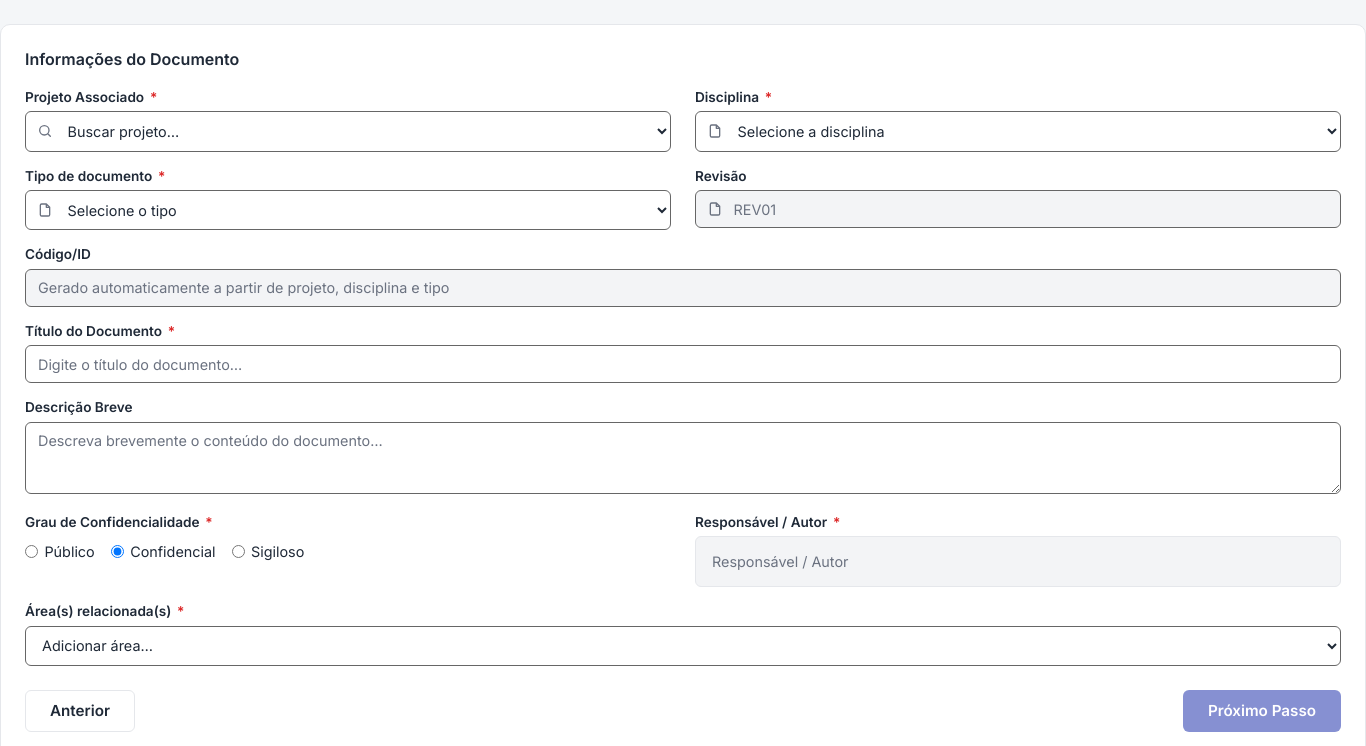
Scenario: MetadataStep › should build the code and enable the next step once required fields are filled
Select "AK-2100 - Aeroestrutura de Fuselagem Central" in the dropdown labelled "Projeto Associado *" at (348, 132), box [25,111,671,152]
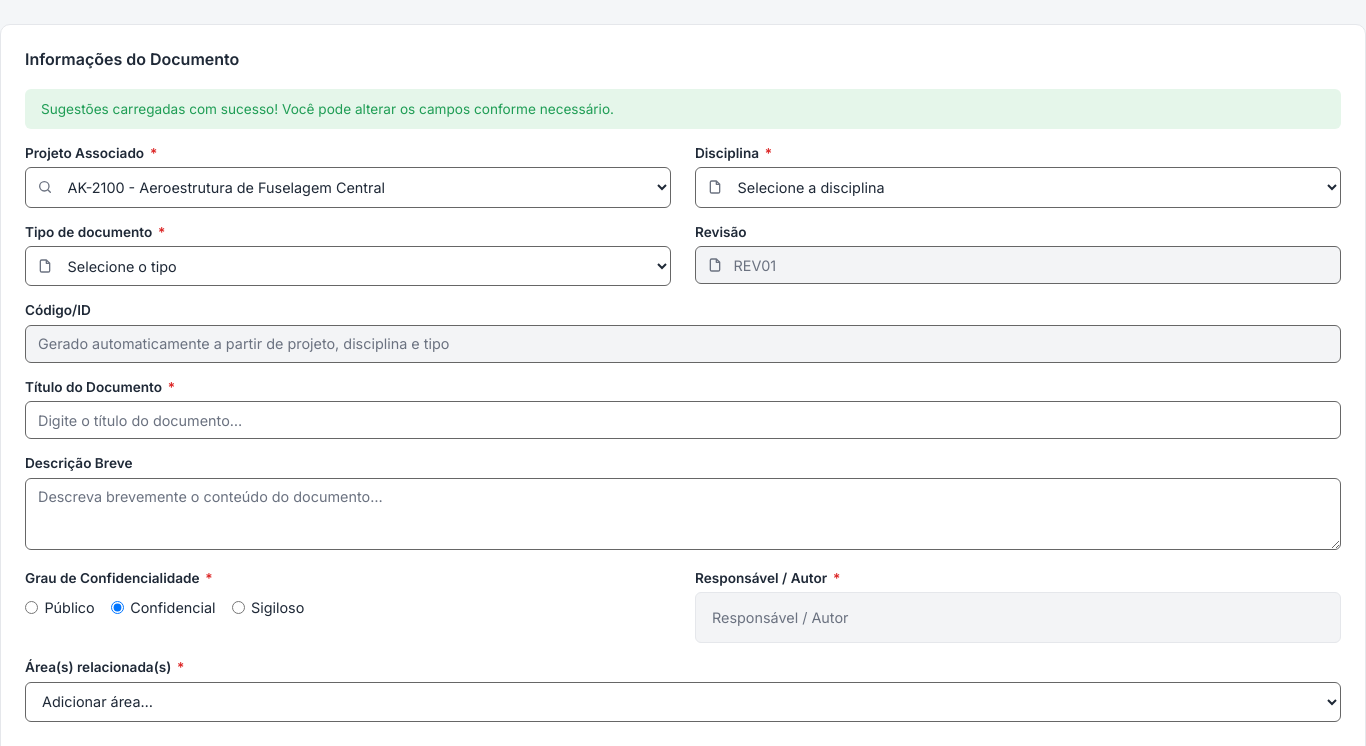
Select "EST - Estruturas" in the dropdown with id "discipline" at (1018, 188), box [695,167,1341,208]
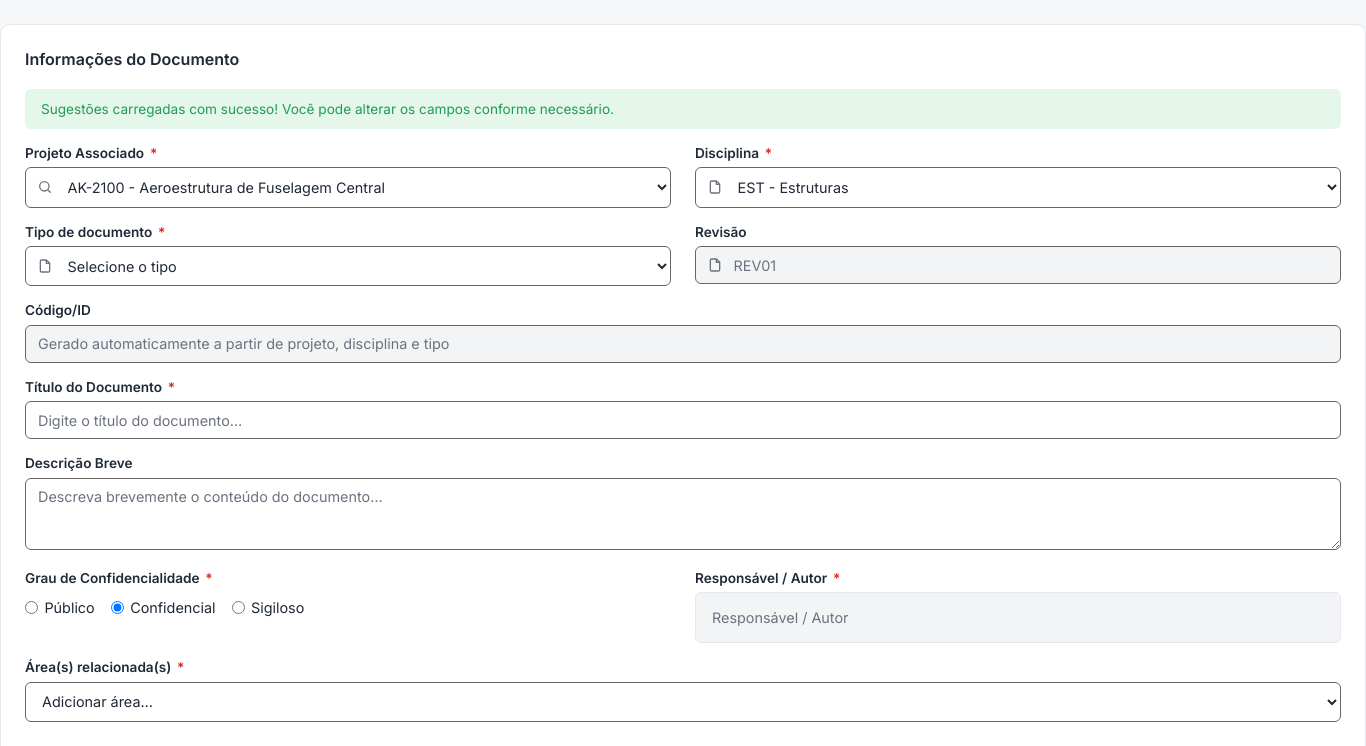
Select "DWG - Desenho" in the dropdown with id "document-type" at (348, 266), box [25,246,671,286]
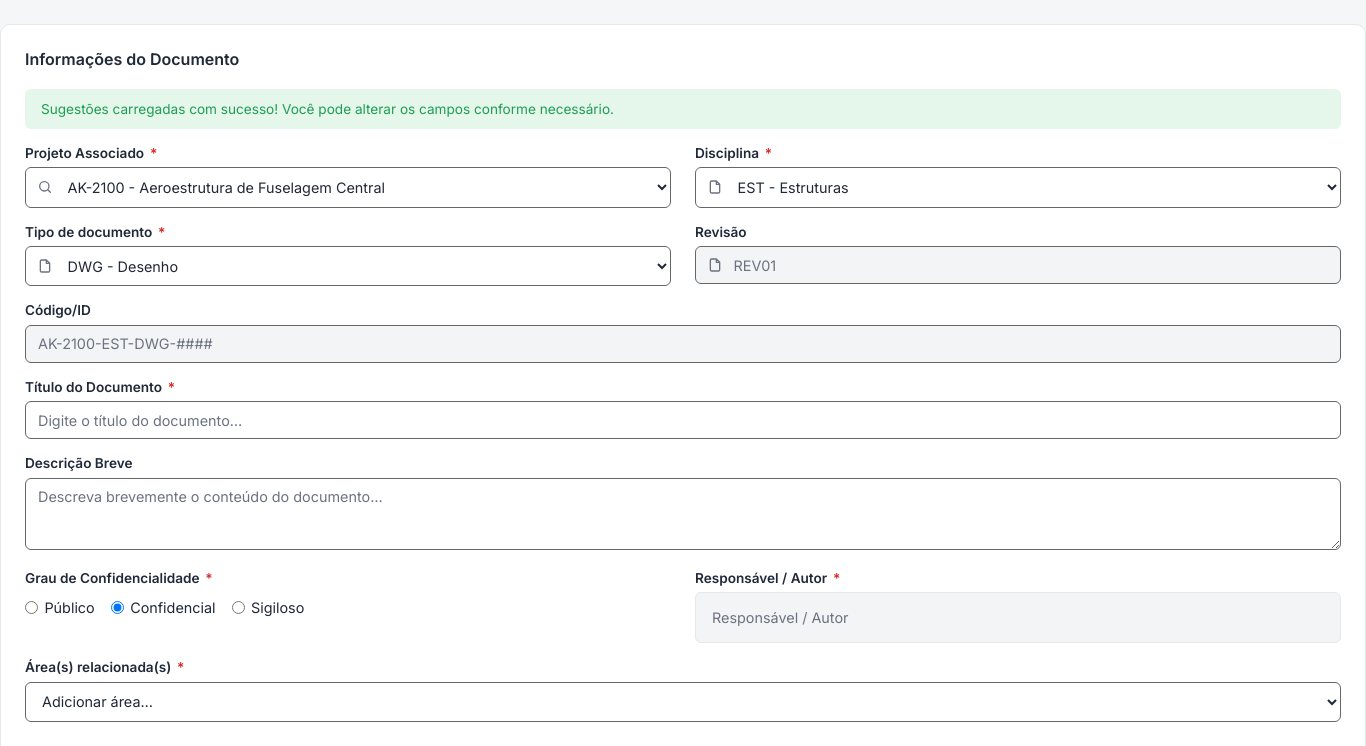
Type "Desenho da fuselagem central" into the field with id "title" at (683, 420), box [25,401,1341,439]
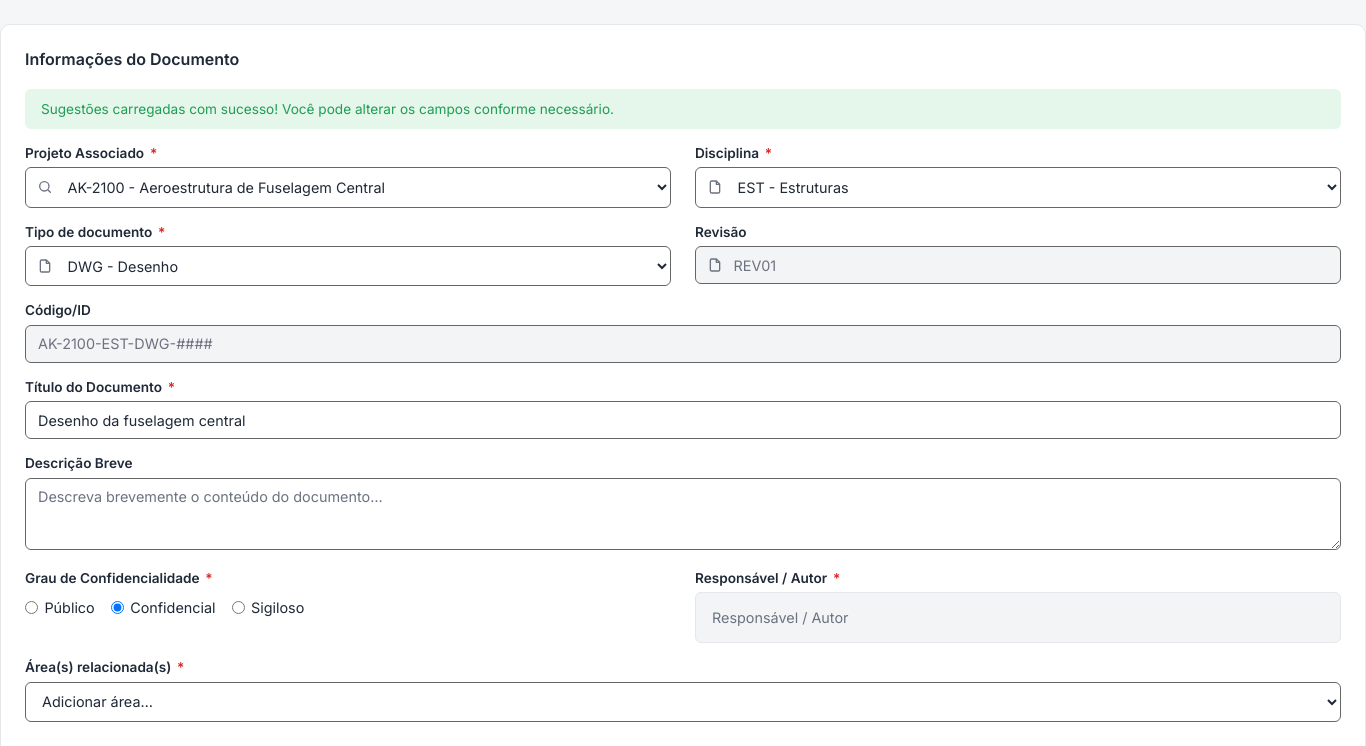
Type "João Silva" into the field with id "author" at (1018, 618), box [712,603,1324,633]
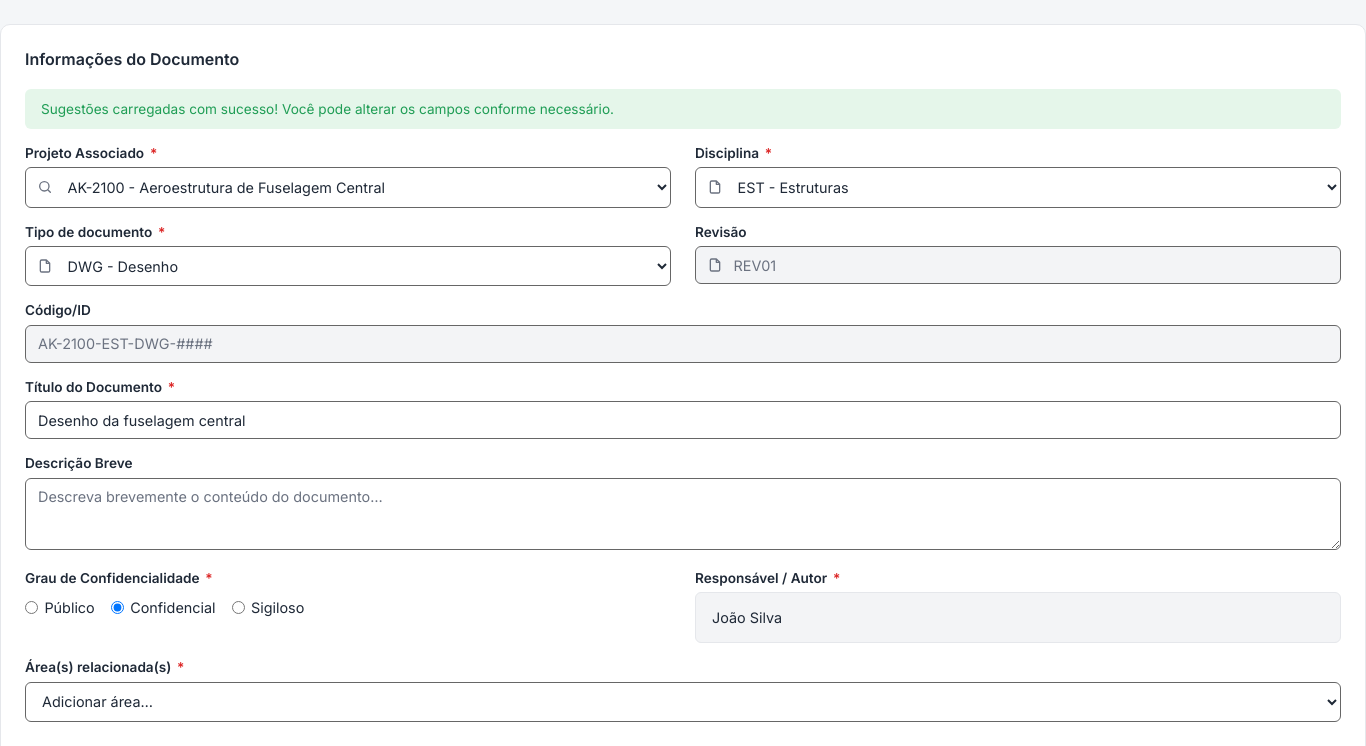
Select "Engenharia Estrutural" in the dropdown with id "areas" at (683, 702), box [25,682,1341,722]
(page scrolled)
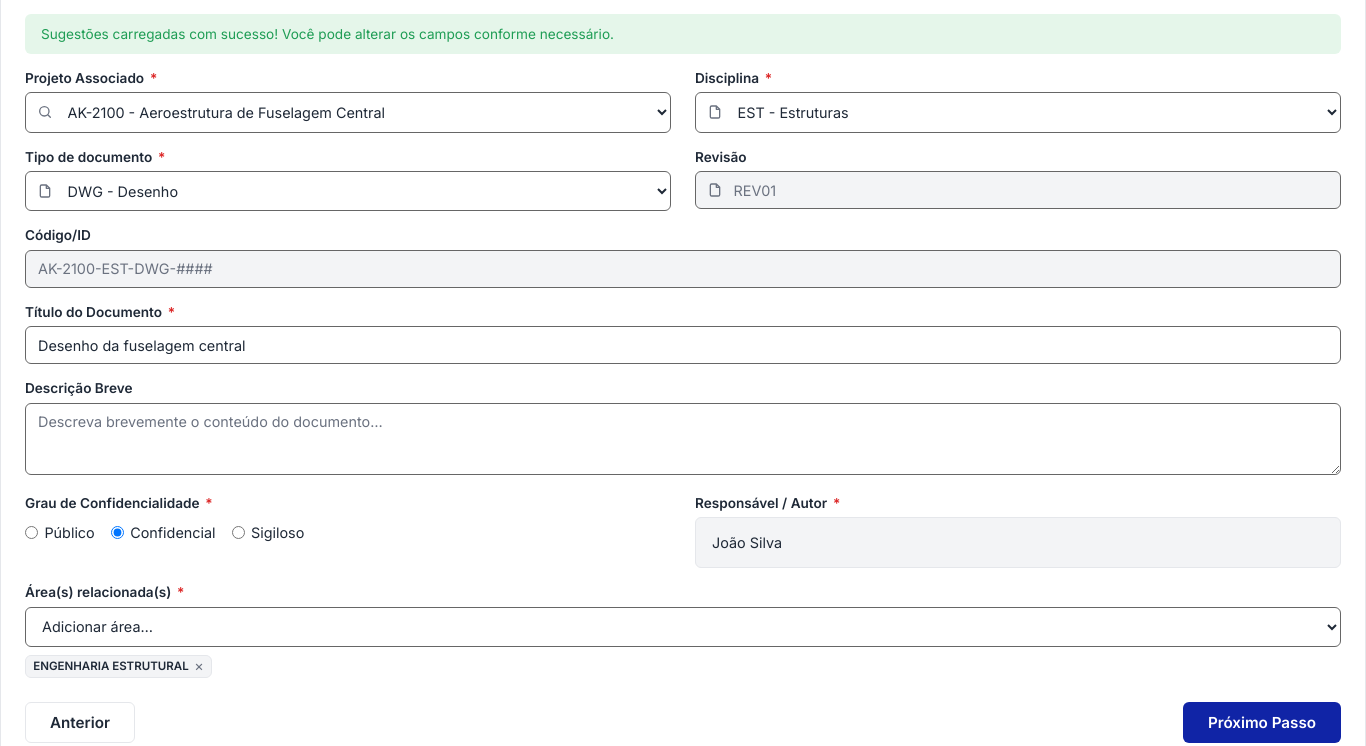
Result: the field with id "code" holds "AK-2100-EST-DWG-####" at [25,250,1341,288]
Result: the text "ENGENHARIA ESTRUTURAL" is shown at [33,659,189,673]
Result: the button "Próximo Passo" is enabled at [1183,702,1341,743]
